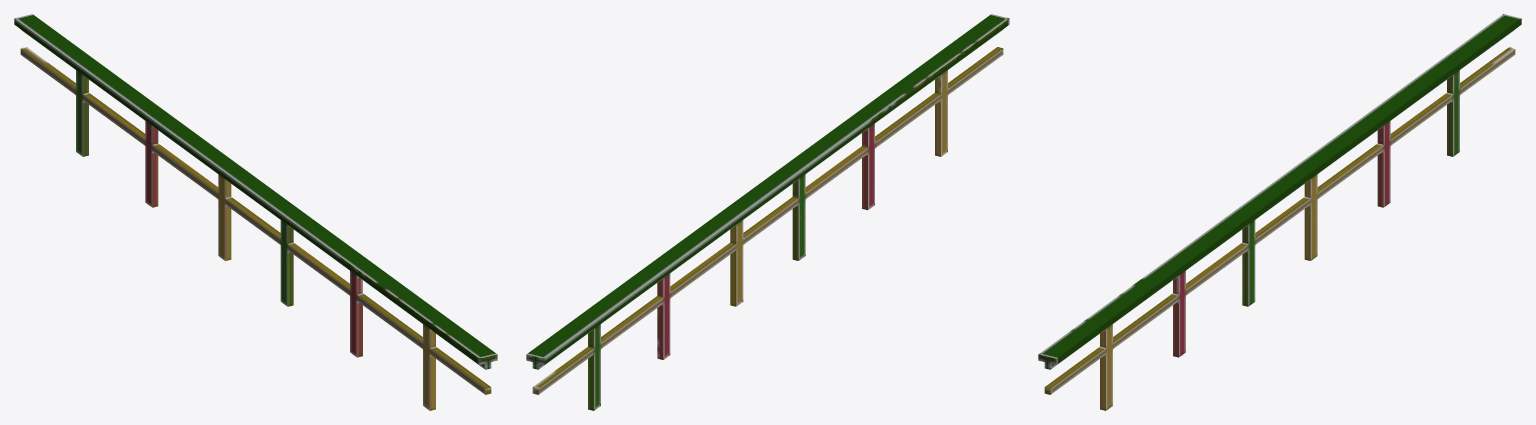
Rendered from CorrimaoColor.fbx.
3 views of the same model, side by side, from view 1: azimuth 30°, elevation 25°; view 2: azimuth 150°, elevation 25°; view 3: azimuth 330°, elevation 25° (orthographic).
Parts seen in each view (by area): view 1: Trapiches-2; view 2: Trapiches-2; view 3: Trapiches-2.
Part boxes in pixels (bbox=[...]): Trapiches-2: bbox=[14, 14, 497, 410]; Trapiches-2: bbox=[526, 14, 1009, 410]; Trapiches-2: bbox=[1038, 14, 1521, 410].
Size of the model in its own units: 30 by 150 by 1340.
1 material, 1 textured.
